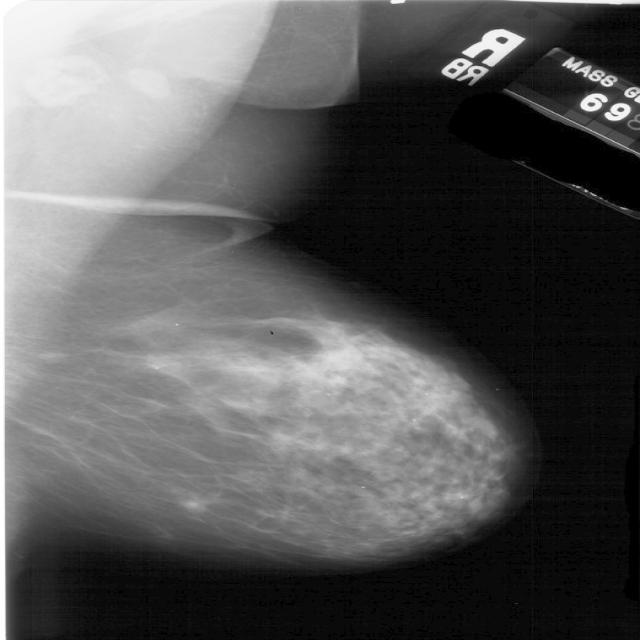tumour: (37, 349, 71, 362)
